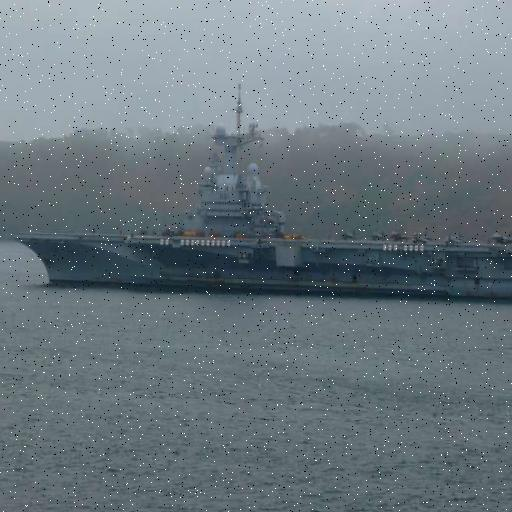Portanaves: (3, 76, 512, 306)
